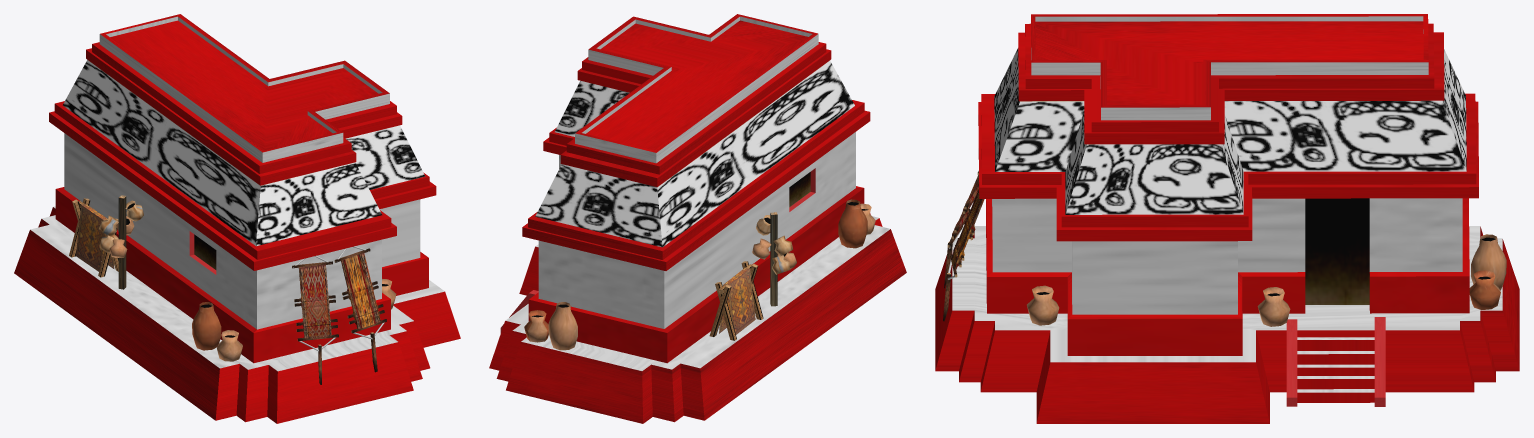
File: house_nobre_3.dae
3 views of the same model, side by side, from view 1: azimuth 30°, elevation 25°; view 2: azimuth 150°, elevation 25°; view 3: azimuth 270°, elevation 25° (orthographic). The views are drawn at different scales.
Visible parts, largest first — view 1: house_nobre_3; view 2: house_nobre_3; view 3: house_nobre_3.
Boxes of the visible parts, left/top/right/bottom form: house_nobre_3: left=14, top=14, right=460, bottom=423; house_nobre_3: left=489, top=14, right=906, bottom=423; house_nobre_3: left=935, top=14, right=1519, bottom=423.
Size of the model in its own units: 8.9 by 13.71 by 7.51.
